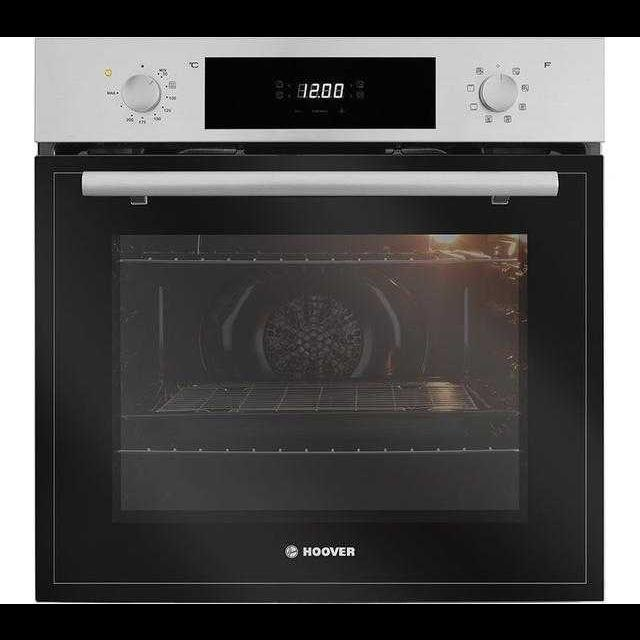Oven: (32, 36, 598, 598)
